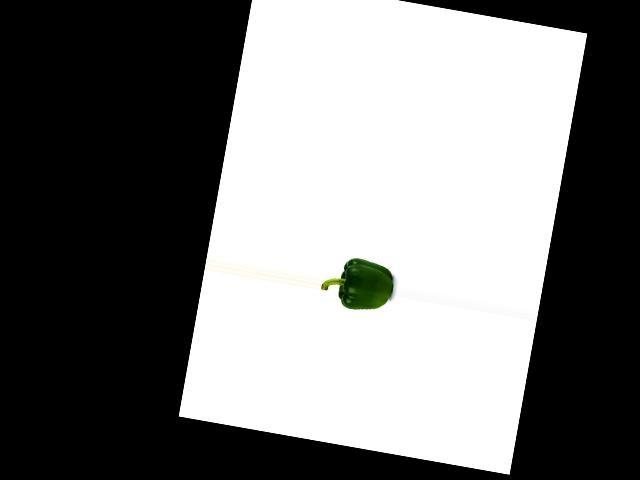bell_pepper: (320, 245, 398, 316)
